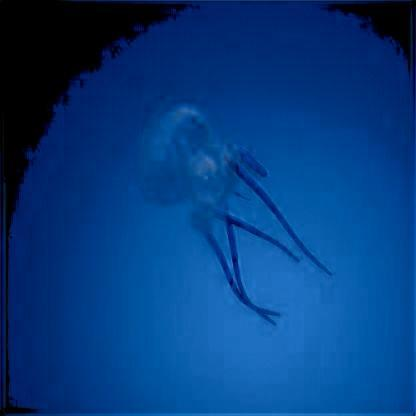Handstand: (139, 107, 331, 327)
